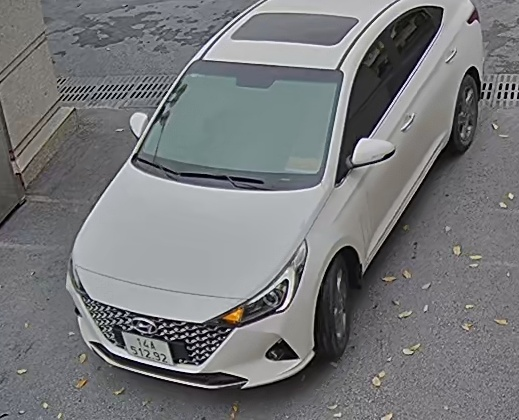vehicle plate: (118, 325, 177, 367)
